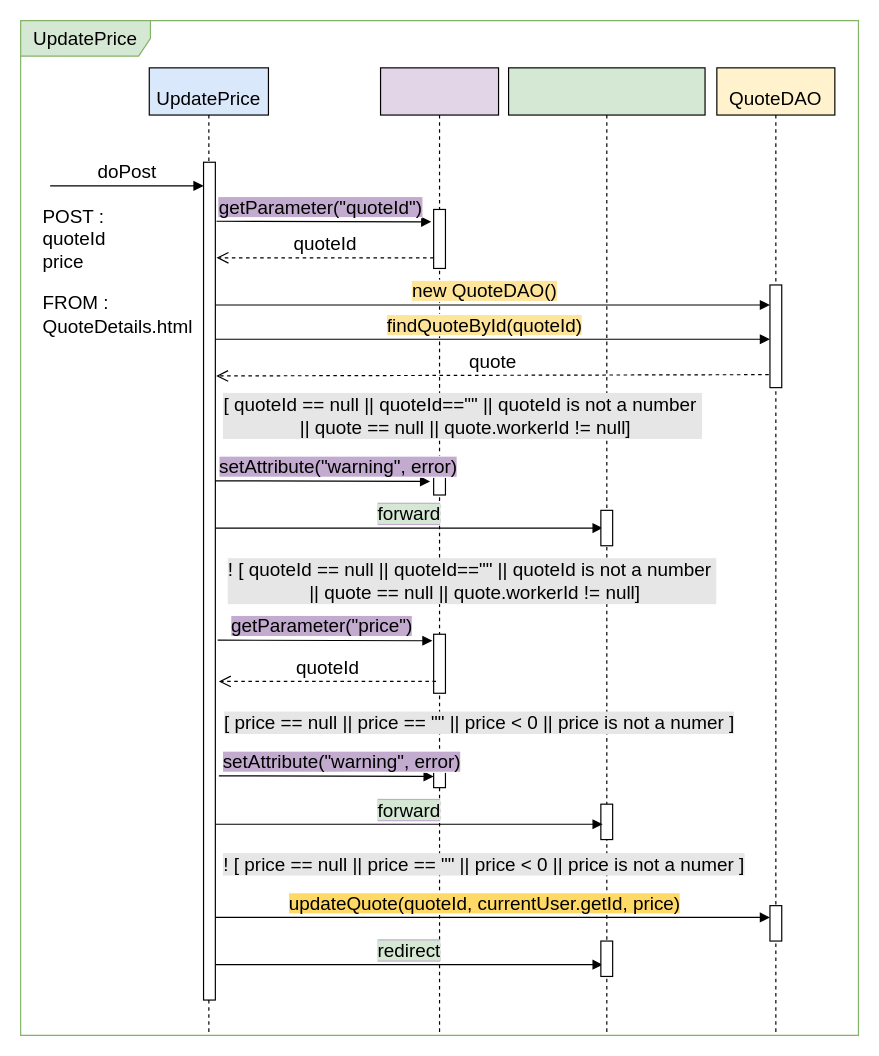
The diagram is 879 pixels wide and 1056 high, and some of its shapes have lost their labels. The shapes that lost their labels are listed below. From the top down, each one's box as (x1, y1, x2, y2) in pixels, then its label:
(379, 67, 499, 1035): Request
(507, 67, 705, 1035): GotoWorkerHome
